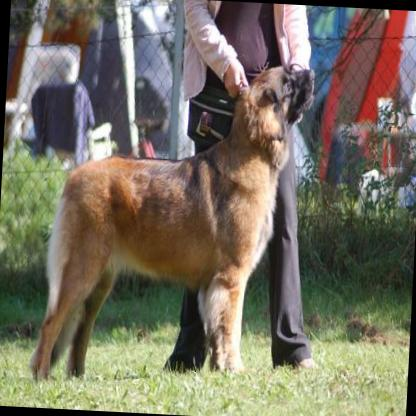Leonberg: (26, 52, 314, 394)
